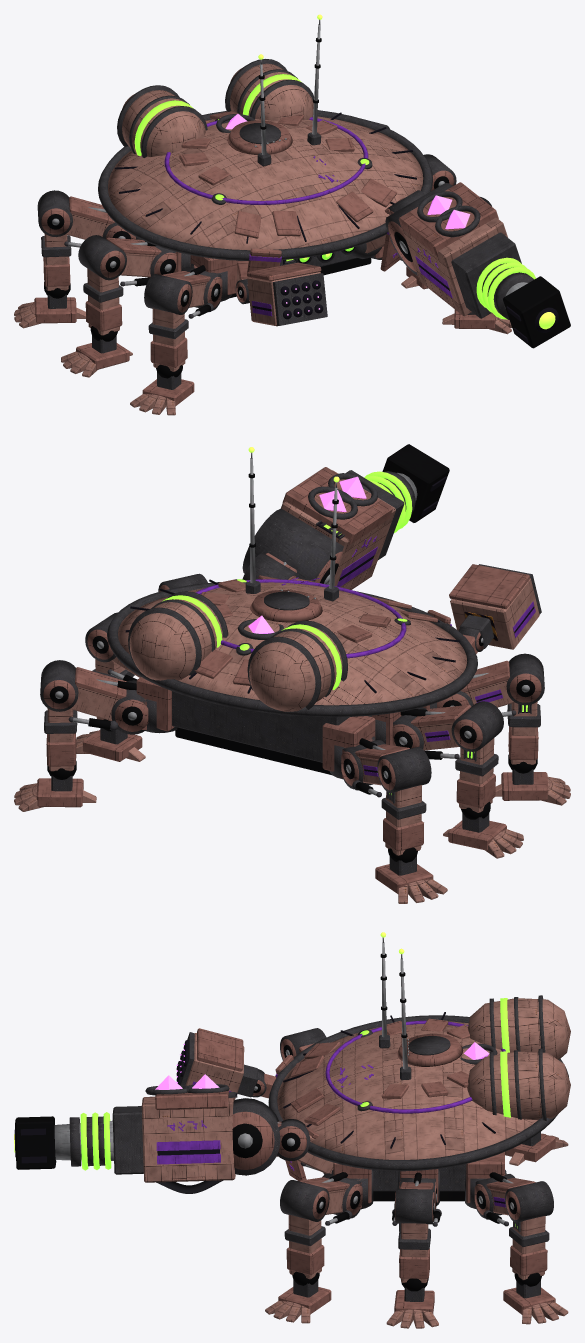
File: alien_bigboy.glb
3 renders of one model, top to bottom at view 1: azimuth 30°, elevation 25°; view 2: azimuth 150°, elevation 25°; view 3: azimuth 270°, elevation 25°, orthographic. The views are drawn at different scales.
Visible parts, largest first — view 1: shell_bigboy_armor, shell_bigboy_frame, shell_bigboy_armor2, gun_L_bigboy_frame, gun_L_bigboy_dark, gun_L_bigboy_armor, gun_L_bigboy_armor2, leg_R1_tibia_bigboy_frame, shell_bigboy_livery, rack_R_bigboy_frame, leg_R2_tibia_bigboy_frame, gun_L_bigboy_glowdim (+26 smaller); view 2: shell_bigboy_armor, shell_bigboy_frame, gun_L_bigboy_frame, body_bigboy_frame, shell_bigboy_armor2, body_bigboy_armor2, gun_L_bigboy_armor2, rack_R_bigboy_armor2, gun_L_bigboy_dark, rack_R_bigboy_armor, leg_R3_tibia_bigboy_frame, gun_L_bigboy_armor (+33 smaller); view 3: shell_bigboy_armor, shell_bigboy_frame, gun_L_bigboy_armor, gun_L_bigboy_frame, shell_bigboy_armor2, gun_L_bigboy_dark, gun_L_bigboy_armor2, leg_L3_tibia_bigboy_frame, leg_L2_tibia_bigboy_frame, leg_L1_tibia_bigboy_frame, body_bigboy_armor2, rack_R_bigboy_armor2 (+27 smaller).
Part boxes in pixels (x1,y1,x2,y2): shell_bigboy_armor: (108, 63, 423, 250); shell_bigboy_frame: (98, 59, 432, 263); shell_bigboy_armor2: (179, 111, 400, 272); gun_L_bigboy_frame: (385, 183, 534, 319); gun_L_bigboy_dark: (394, 232, 570, 348); gun_L_bigboy_armor: (402, 217, 507, 316); gun_L_bigboy_armor2: (388, 182, 498, 271); leg_R1_tibia_bigboy_frame: (144, 274, 193, 339); shell_bigboy_livery: (164, 115, 397, 262); rack_R_bigboy_frame: (272, 273, 327, 325); leg_R2_tibia_bigboy_frame: (78, 235, 126, 302); gun_L_bigboy_glowdim: (476, 257, 536, 319); shell_bigboy_armor: (118, 582, 467, 711); shell_bigboy_frame: (107, 579, 477, 717); gun_L_bigboy_frame: (242, 470, 415, 581); body_bigboy_frame: (172, 691, 371, 762); shell_bigboy_armor2: (194, 575, 450, 685); body_bigboy_armor2: (136, 677, 429, 771); gun_L_bigboy_armor2: (282, 467, 392, 582); rack_R_bigboy_armor2: (449, 564, 530, 650); gun_L_bigboy_dark: (320, 444, 449, 584); rack_R_bigboy_armor: (450, 578, 539, 649); leg_R3_tibia_bigboy_frame: (376, 747, 431, 819); gun_L_bigboy_armor: (281, 470, 395, 589); shell_bigboy_armor: (277, 998, 570, 1159); shell_bigboy_frame: (268, 995, 569, 1171); gun_L_bigboy_armor: (141, 1096, 235, 1182); gun_L_bigboy_frame: (69, 1084, 280, 1175); shell_bigboy_armor2: (275, 1018, 469, 1181); gun_L_bigboy_dark: (15, 1116, 262, 1169); gun_L_bigboy_armor2: (155, 1090, 274, 1169); leg_L3_tibia_bigboy_frame: (504, 1181, 553, 1246); leg_L2_tibia_bigboy_frame: (392, 1188, 437, 1249); leg_L1_tibia_bigboy_frame: (280, 1180, 330, 1246); body_bigboy_armor2: (333, 1152, 504, 1203); rack_R_bigboy_armor2: (197, 1028, 264, 1096).
Bounding box in the file's own units: 42.08 × 30 × 49.9.
14 materials, 7 textured.
